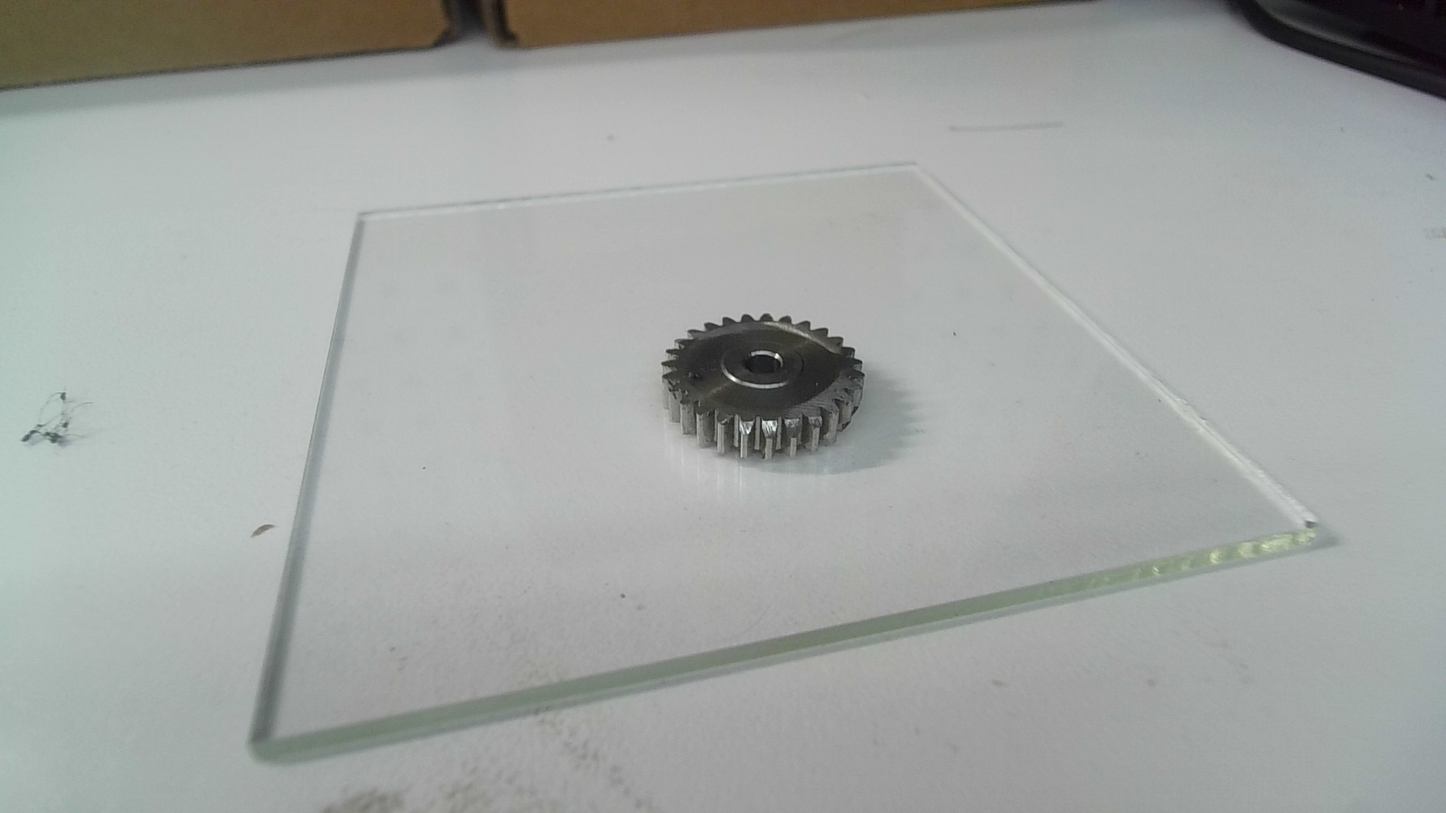gear: (659, 311, 867, 460)
